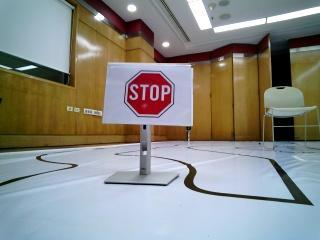stop: (104, 67, 183, 126)
